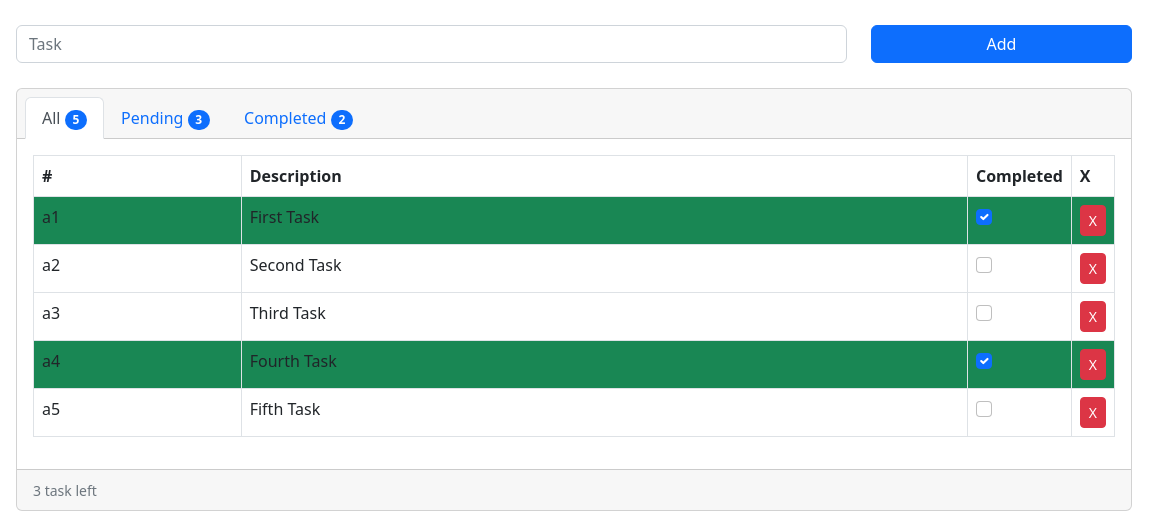
Test: Todo Component › Mark Task Un-Complete
This screenshot has width=1149, height=528.
Note: simulate: click on check
Click the checkbox in the row of "a1".
click(984, 217)  # box [976,209,992,225]
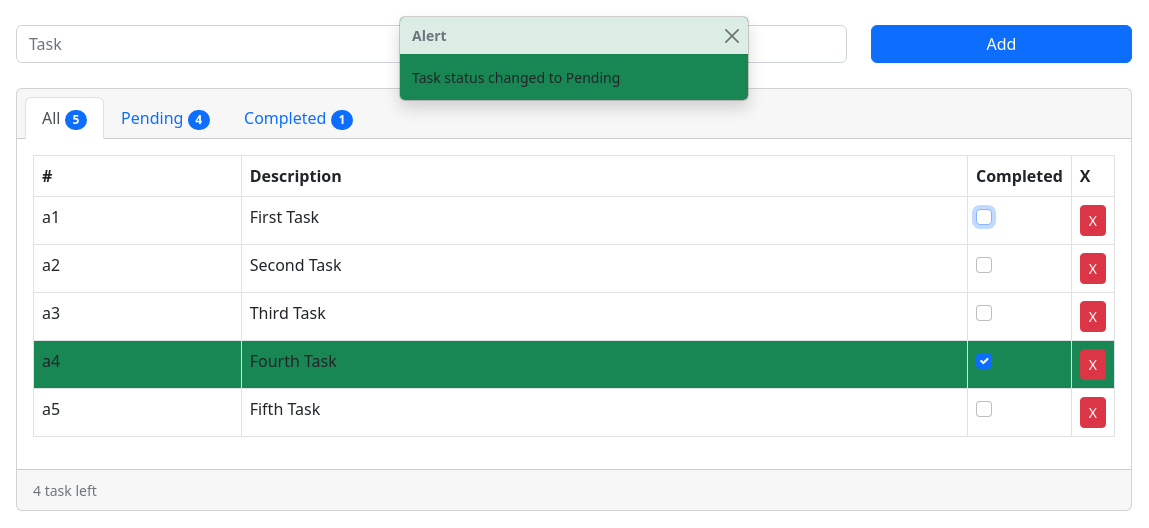
Check: the message "Alert Task status changed to Pending" is shown, box [399,16,749,101]
Check: the text with test id "toaster-body" reads "Task status changed to Pending", box [412,68,620,87]
